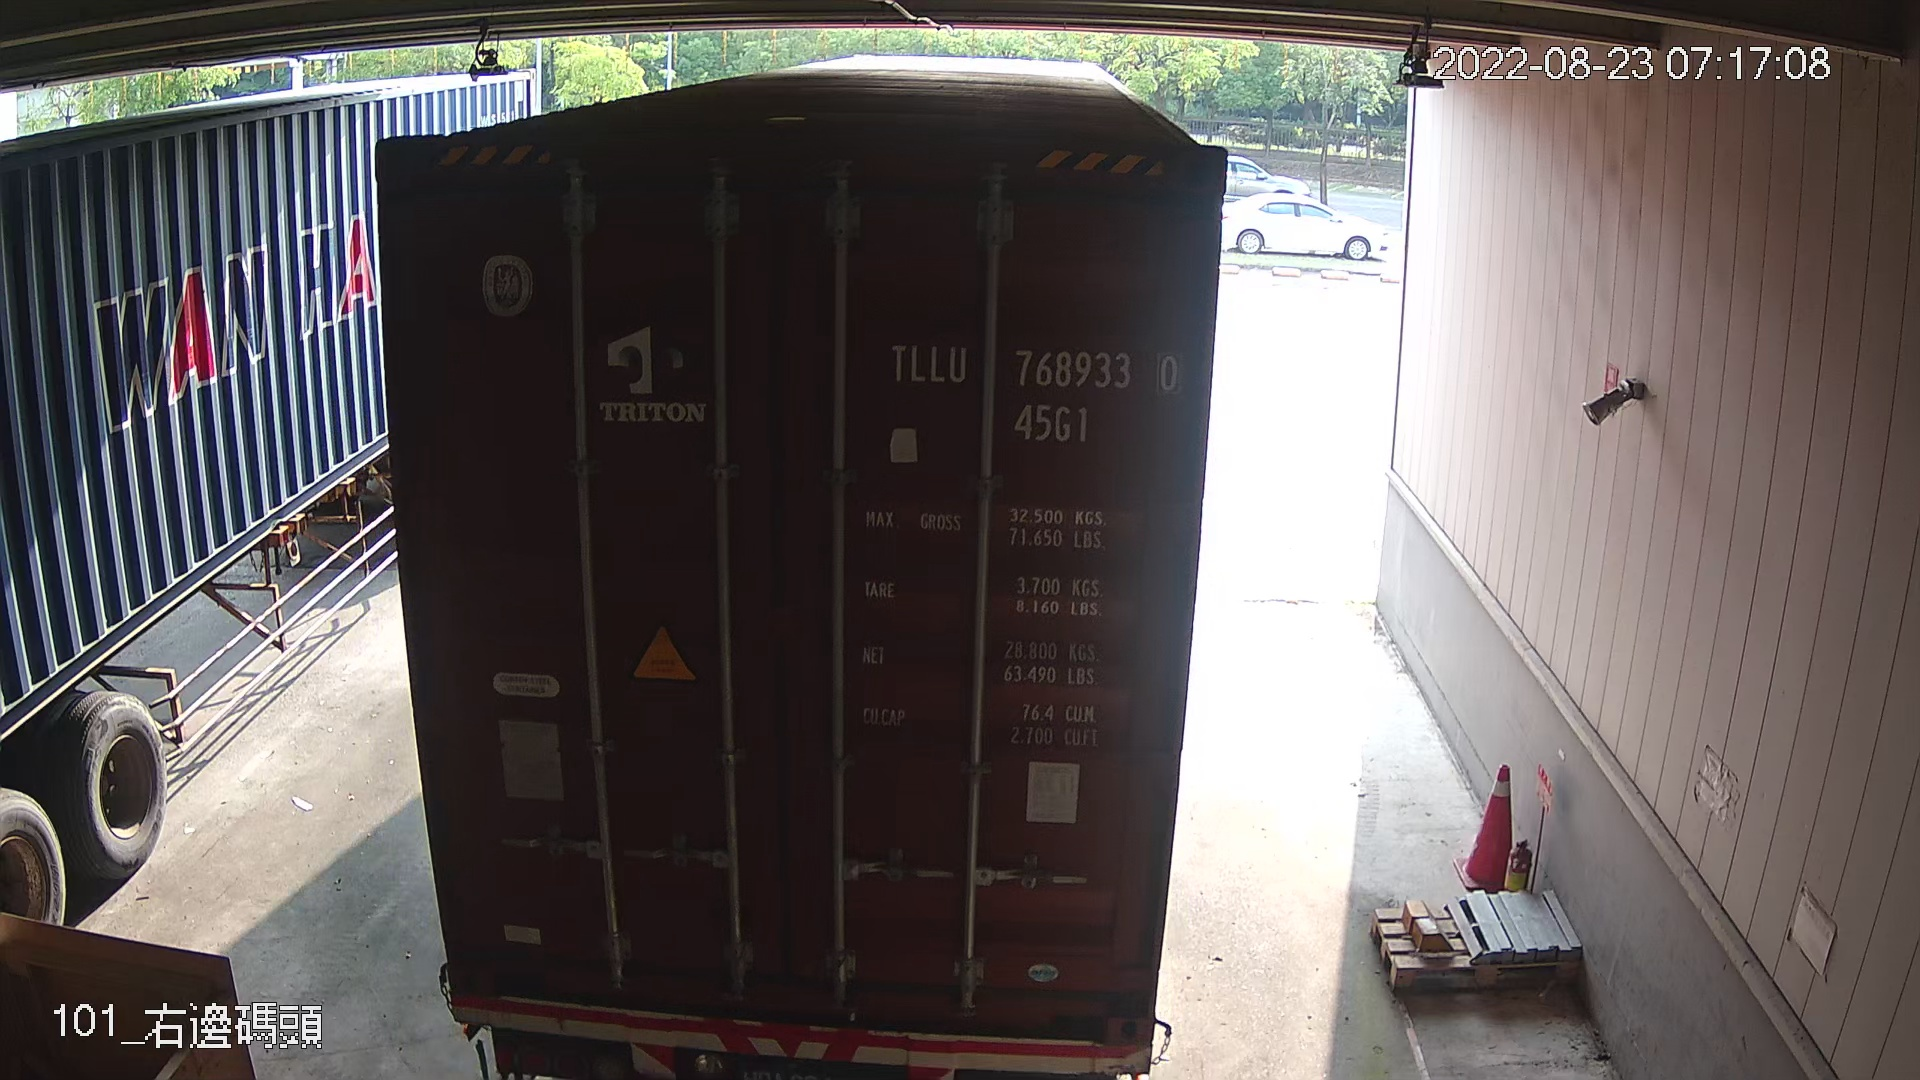container: (880, 324, 1185, 448)
